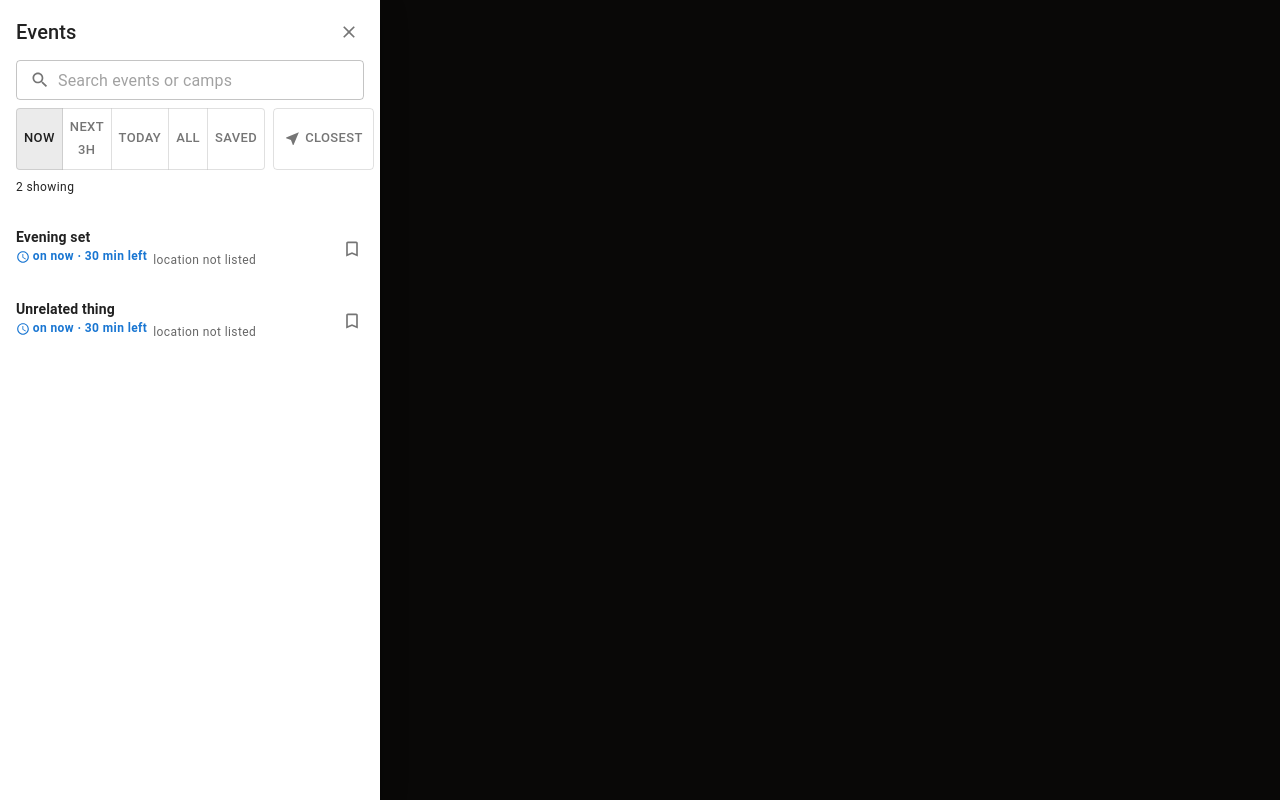
EventsPanel · description search (#64) › finds an event by a word that only lives in its print_description
Type "karaoke" into the field with placeholder "Search events or camps" at (211, 80), box [58, 60, 364, 100]
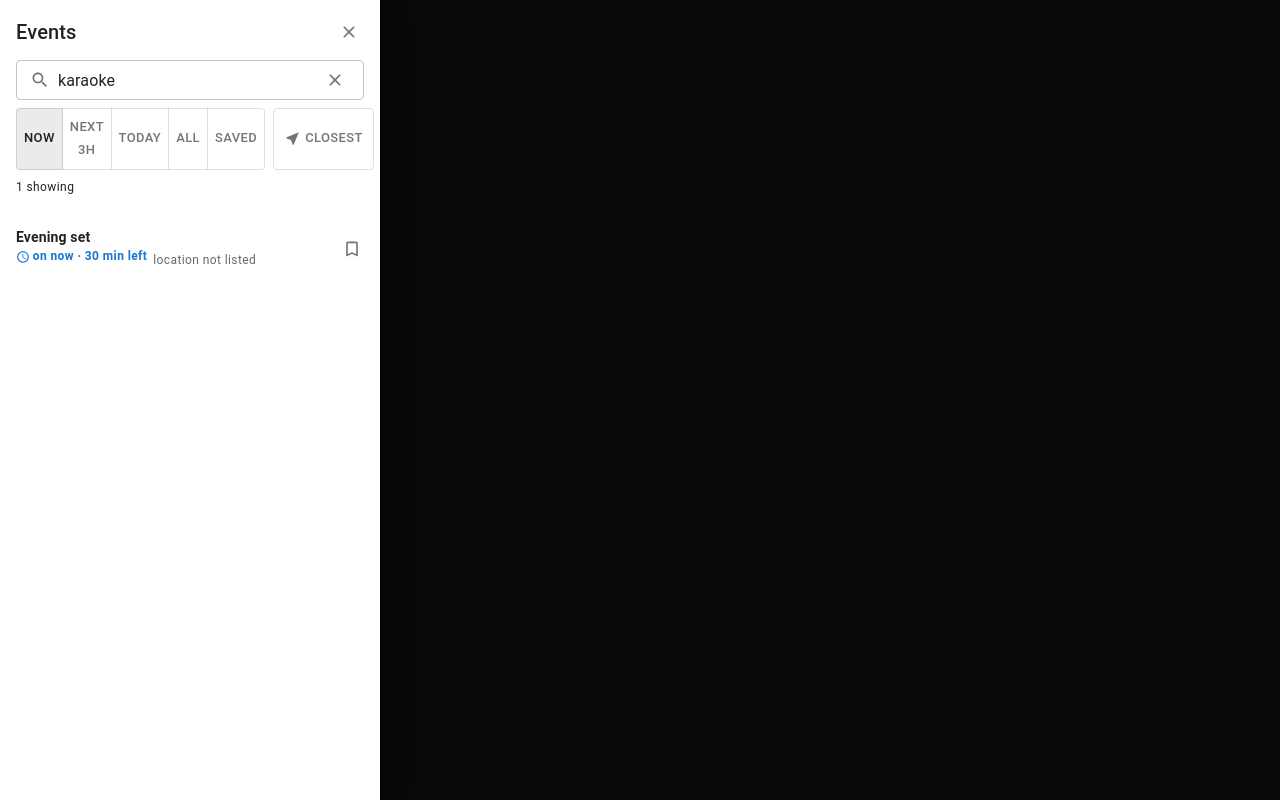
Check: the text "Evening set" is shown, box [16, 229, 90, 245]
Check: the button "Unrelated thing" is gone
